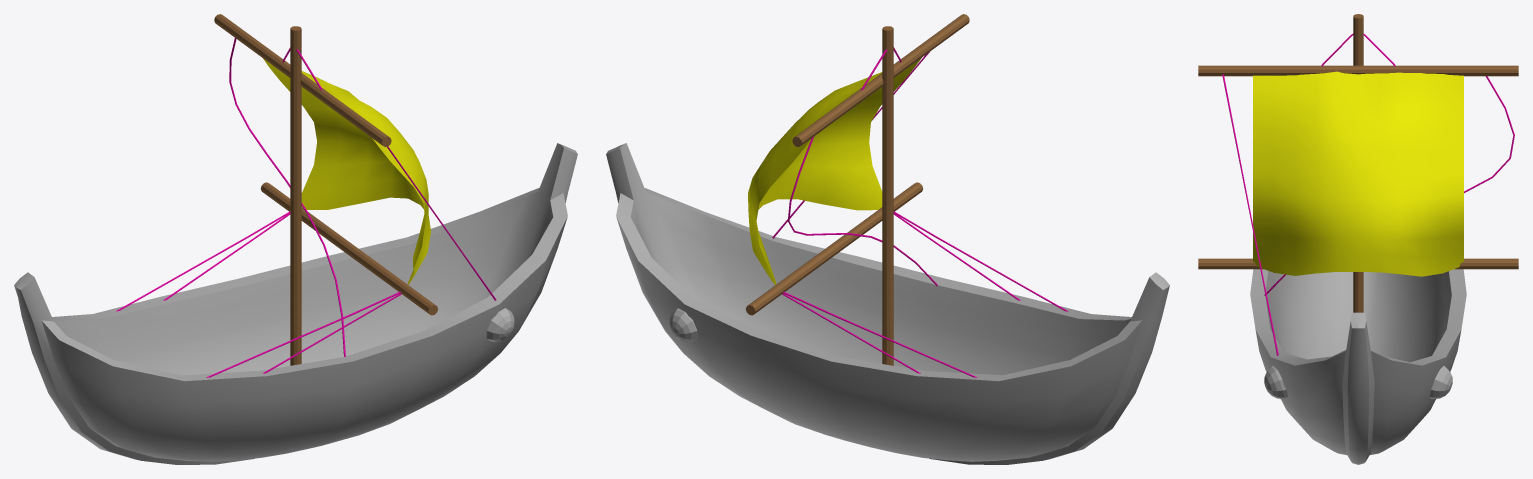
Rendered from Barco.fbx.
The picture shows the model from 3 angles, left to right: view 1: azimuth 30°, elevation 25°; view 2: azimuth 150°, elevation 25°; view 3: azimuth 270°, elevation 25°; orthographic projection. The views are drawn at different scales.
Visible parts, largest first — view 1: pSphere3, pPlane1, pCylinder1, pCylinder2, pCylinder15, pCylinder13, pCylinder11, pSphere4; view 2: pSphere3, pPlane1, pCylinder1, pCylinder2, pCylinder15, pCylinder13, pSphere4, pCylinder11; view 3: pPlane1, pSphere3, pCylinder2, pCylinder15, pSphere4, pCylinder1, pCylinder12, pCylinder11.
Boxes of the visible parts, x1,y1,x2,y2 form: pSphere3: (14,143,577,464); pPlane1: (263,58,430,284); pCylinder1: (290,26,301,365); pCylinder2: (214,14,391,146); pCylinder15: (260,182,437,315); pCylinder13: (116,47,401,377); pCylinder11: (229,38,345,356); pSphere4: (486,308,514,342); pSphere3: (606,143,1169,464); pPlane1: (748,58,921,285); pCylinder1: (882,26,893,365); pCylinder2: (792,14,969,146); pCylinder15: (746,182,923,315); pCylinder13: (782,47,1068,377); pSphere4: (669,308,697,342); pCylinder11: (787,136,937,285); pPlane1: (1253,71,1463,276); pSphere3: (1250,269,1466,464); pCylinder2: (1198,65,1518,76); pCylinder15: (1198,258,1518,269); pSphere4: (1264,366,1452,398); pCylinder1: (1353,14,1363,312); pCylinder12: (1222,74,1278,355); pCylinder11: (1264,76,1514,295).
Bounding box in the file's own units: 118467 × 84825 × 61487.
